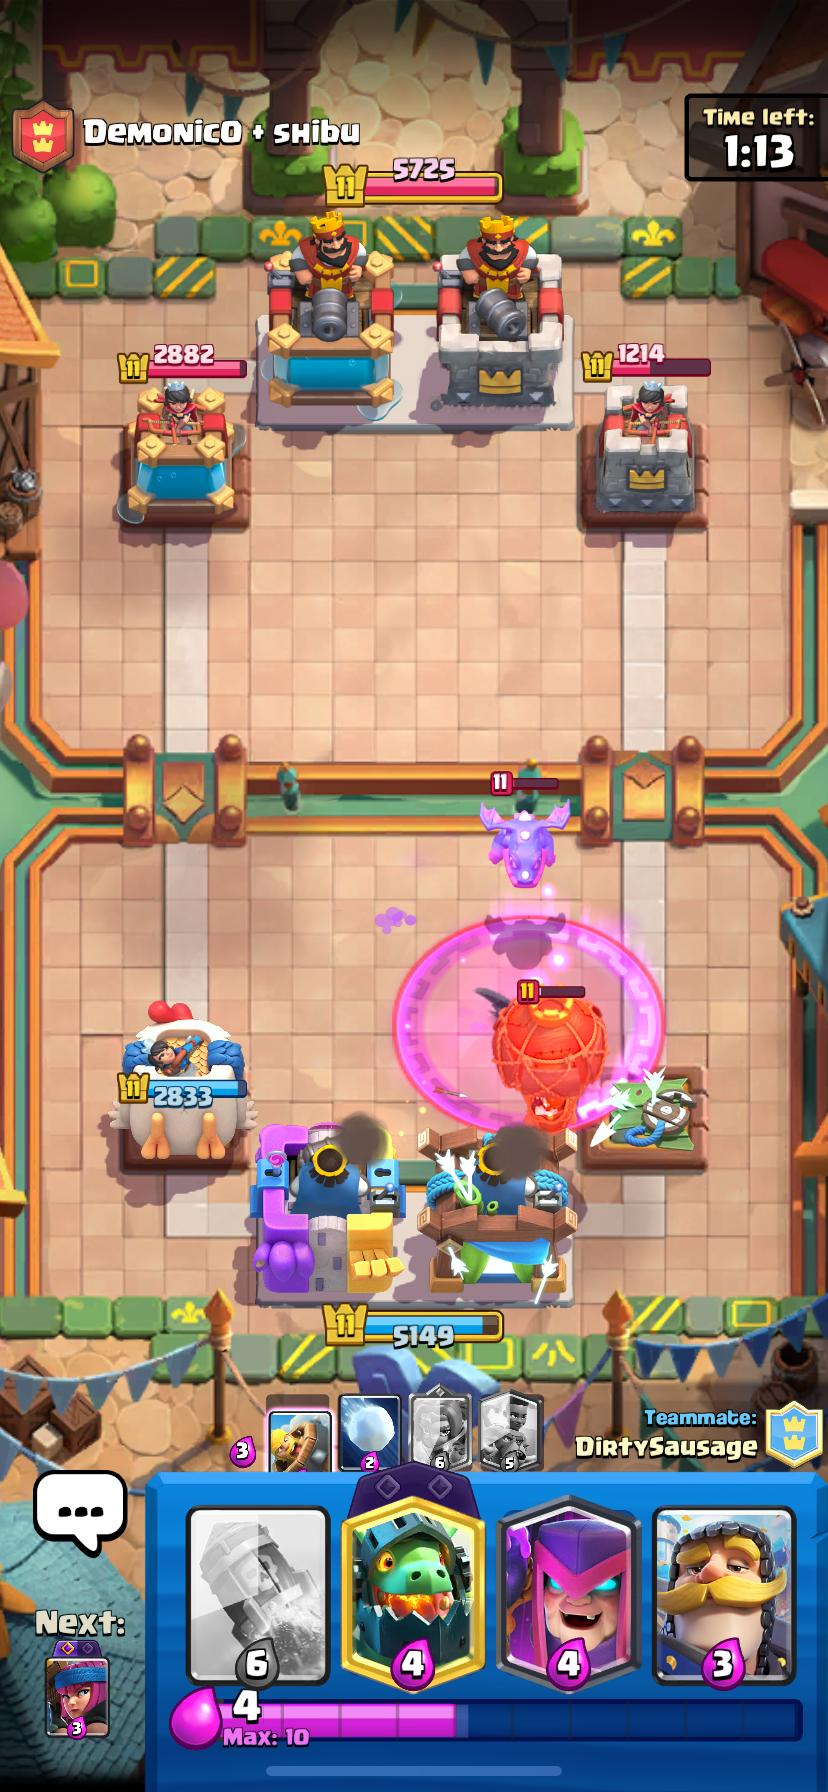EBalloon: (492, 990, 607, 1134)
EElectroDrag: (479, 795, 570, 887)
EKingTower: (268, 211, 395, 407), (436, 218, 565, 408)
EnemyPrincessTower: (582, 377, 704, 525), (118, 381, 244, 523)
OwnKingTower: (417, 1127, 576, 1303), (253, 1123, 405, 1301)
OwnPrincessTower: (110, 1018, 254, 1160)
TowerDown: (582, 1066, 707, 1167)
